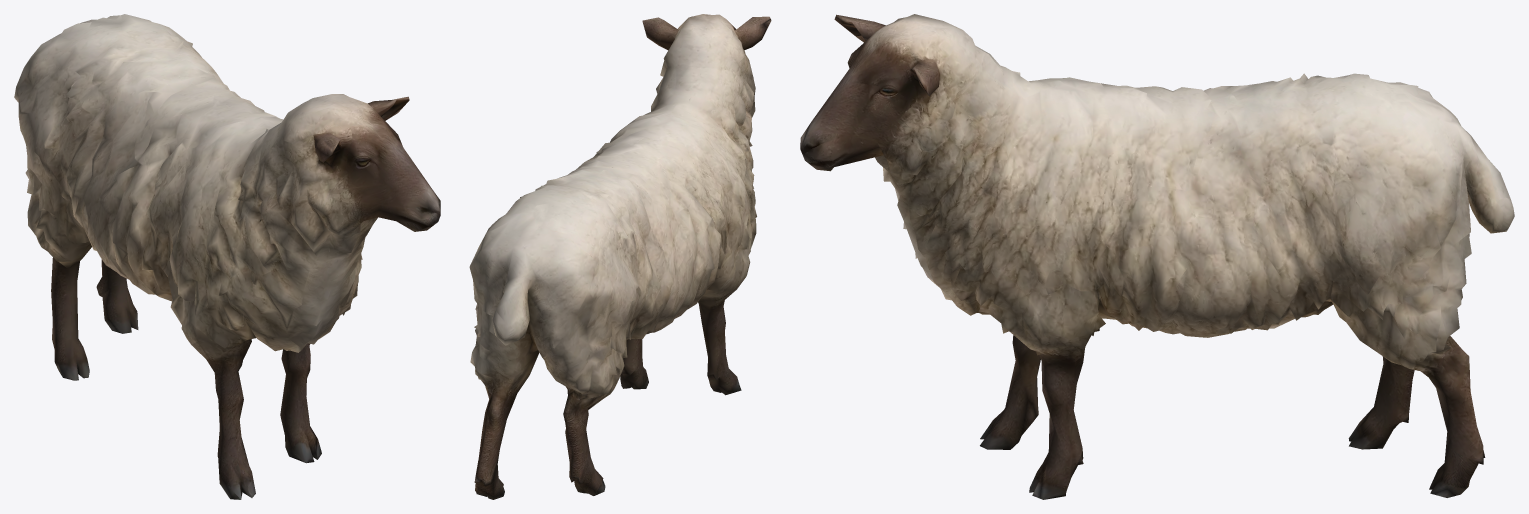
The model's file is animal_sheep.glb.
3 views of the same model, side by side, from view 1: azimuth 30°, elevation 25°; view 2: azimuth 150°, elevation 25°; view 3: azimuth 270°, elevation 25° (orthographic). The views are drawn at different scales.
Visible parts, largest first — view 1: tripo_node_26df144c-3919-4b53-b69e-f31d2578c57e; view 2: tripo_node_26df144c-3919-4b53-b69e-f31d2578c57e; view 3: tripo_node_26df144c-3919-4b53-b69e-f31d2578c57e.
Part boxes in pixels (bbox=[...]): tripo_node_26df144c-3919-4b53-b69e-f31d2578c57e: bbox=[14, 14, 440, 499]; tripo_node_26df144c-3919-4b53-b69e-f31d2578c57e: bbox=[469, 14, 771, 499]; tripo_node_26df144c-3919-4b53-b69e-f31d2578c57e: bbox=[800, 14, 1514, 499].
Size of the model in its own units: 0.3546 by 0.6871 by 0.9803.
1 material, 1 textured.
